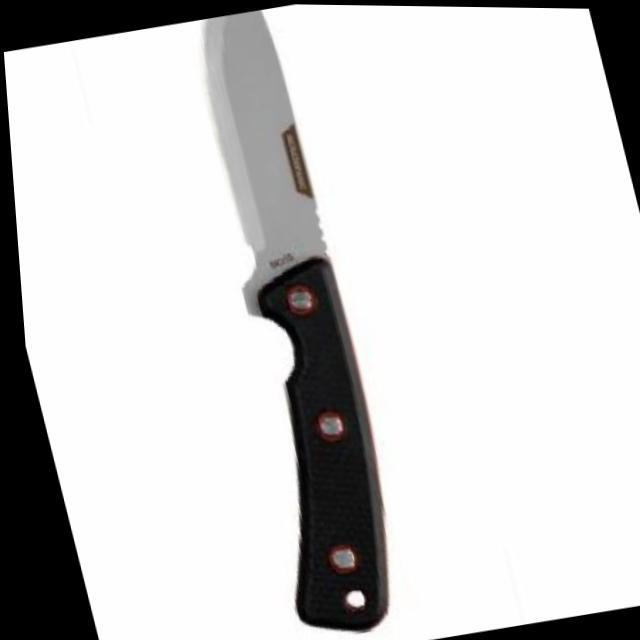weapon: (145, 5, 414, 640)
